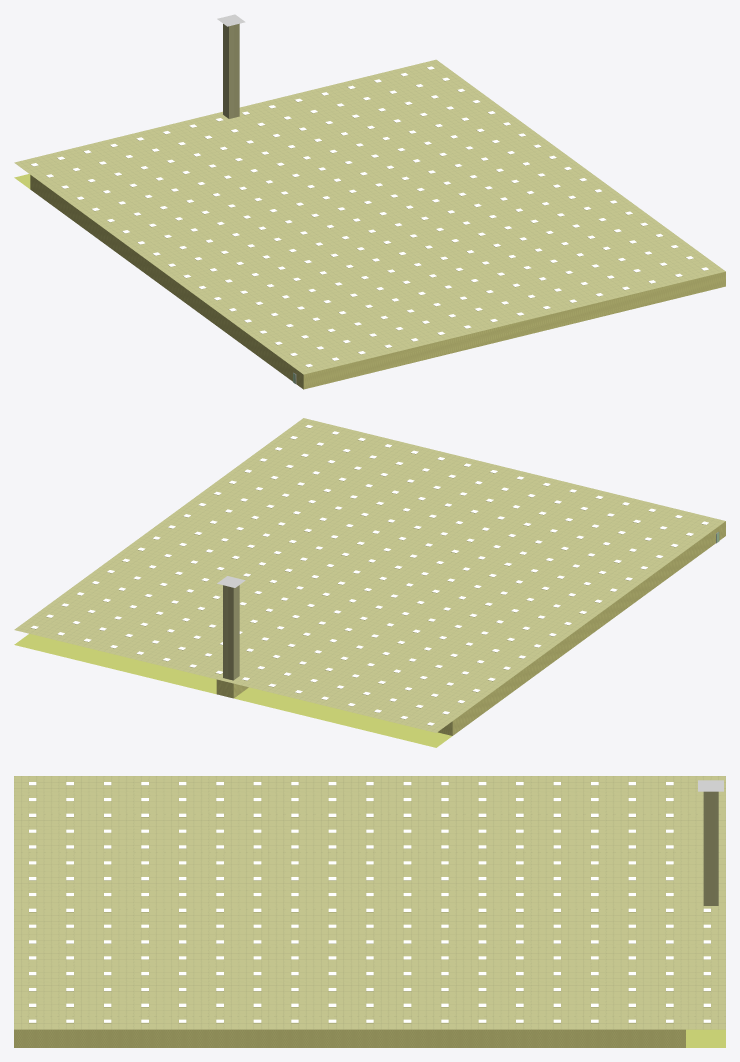
Rendered from BackRoom_02.fbx.
The picture shows the model from 3 angles, top to bottom: view 1: azimuth 30°, elevation 25°; view 2: azimuth 150°, elevation 25°; view 3: azimuth 270°, elevation 25°; orthographic projection. The views are drawn at different scales.
Visible parts, largest first — view 1: Ceiling_LV_00, Wall_LV_00; view 2: Ceiling_LV_00, Floor_LV_00, Wall_LV_00; view 3: Ceiling_LV_00, Wall_LV_00, Floor_LV_00.
Boxes of the visible parts, x1=… form: Ceiling_LV_00: x1=14, y1=23, x2=725, y2=374; Wall_LV_00: x1=30, y1=175, x2=725, y2=389; Ceiling_LV_00: x1=14, y1=418, x2=725, y2=732; Floor_LV_00: x1=14, y1=633, x2=452, y2=747; Wall_LV_00: x1=216, y1=521, x2=725, y2=735; Ceiling_LV_00: x1=14, y1=776, x2=725, y2=1029; Wall_LV_00: x1=14, y1=1029, x2=685, y2=1047; Floor_LV_00: x1=686, y1=1029, x2=725, y2=1047.
Size of the model in its own units: 14219 by 3538 by 16860.
